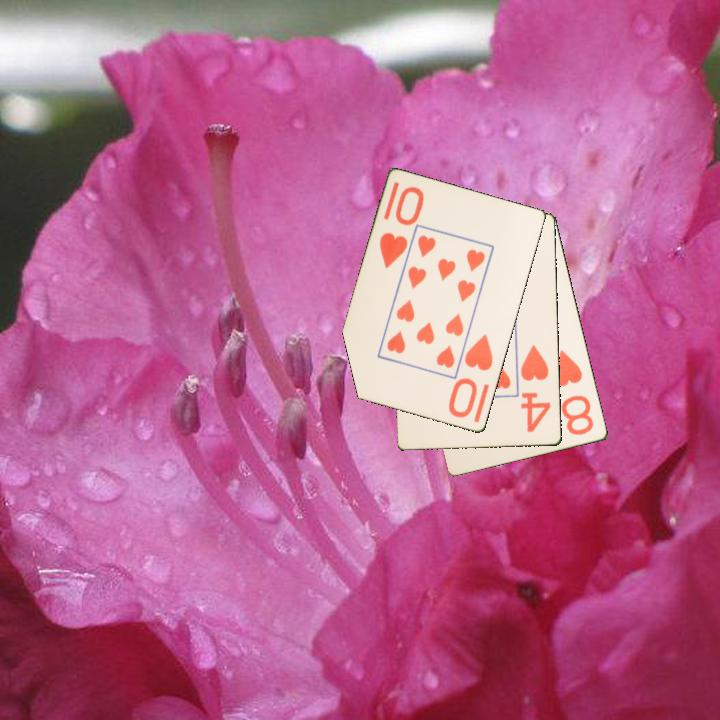10h: (446, 330, 496, 421), (376, 183, 425, 272)
4h: (517, 342, 554, 435)
8h: (551, 346, 597, 438)
